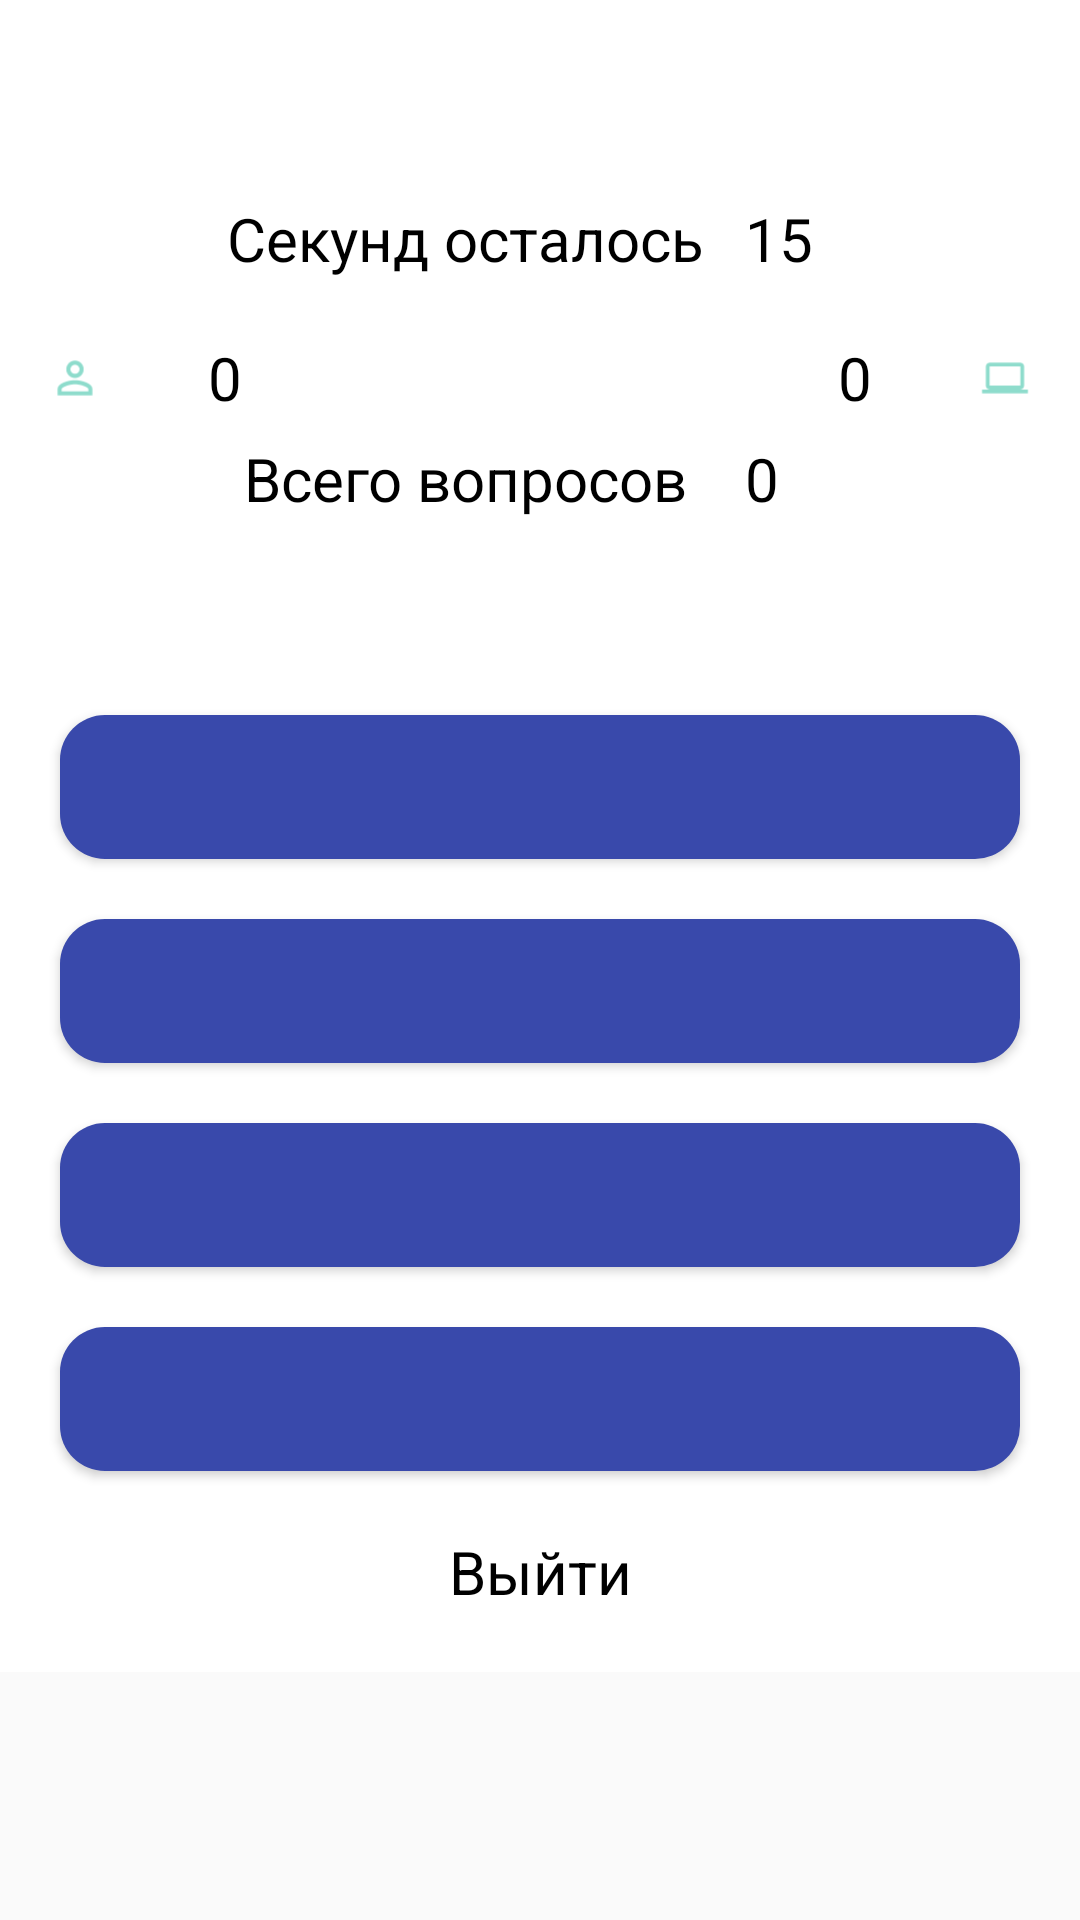

Icons on this 1080px×1920px Android screen, each with its box as (left=x1, top=y1, right=x2, bottom=y2):
computer: (left=982, top=362, right=1028, bottom=394)
person: (left=57, top=360, right=93, bottom=396)
